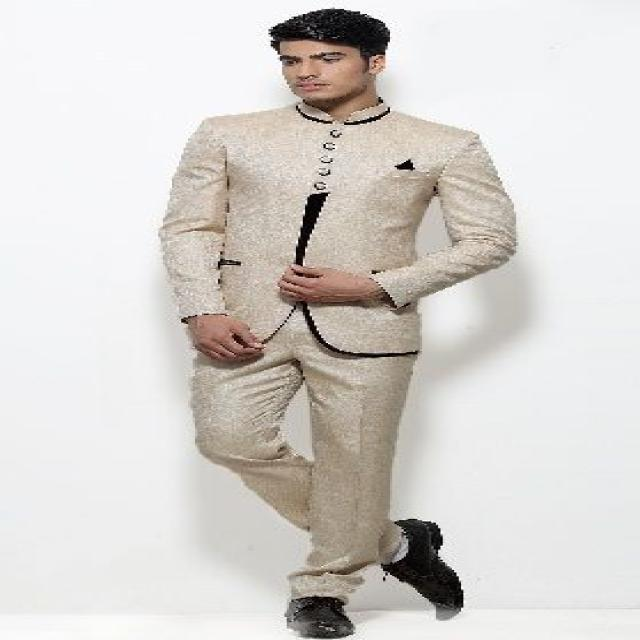mobile_phonerotation: (156, 7, 518, 638)
